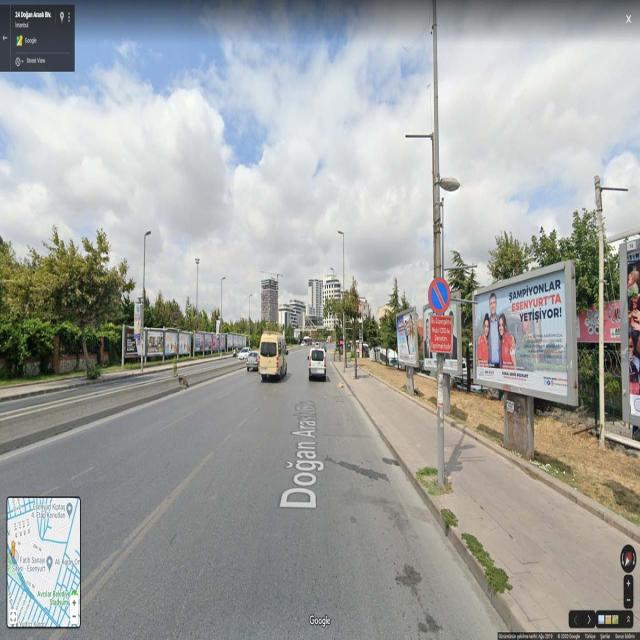parkyasak: (429, 272, 448, 319)
